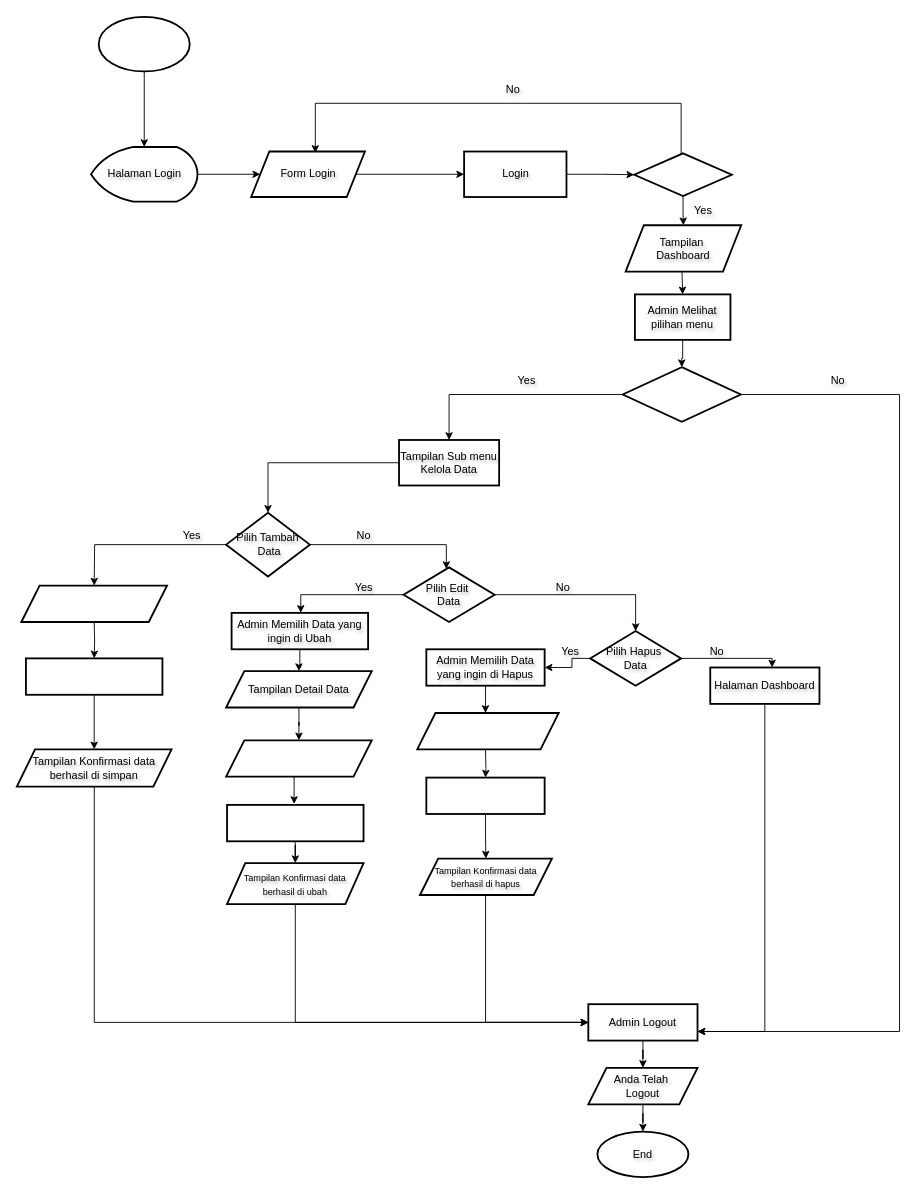
Image size: 923x1193. Some labels were removed from this diagram. The shapes that lost their labels are listed below. From the top down, each one's centre as x and y in pixels, then its label:
(x=143, y=43): Start
(x=682, y=174): Berhasil?
(x=681, y=394): admin ingin mengelola data?
(x=93, y=603): Admin Memasukan Data Baru
(x=94, y=676): Data Tersimpan
(x=487, y=731): Konfirmasi penghapusan data
(x=298, y=758): Admin Memperbarui Data
(x=485, y=795): Hapus Data
(x=295, y=823): Simpan Perubahan
